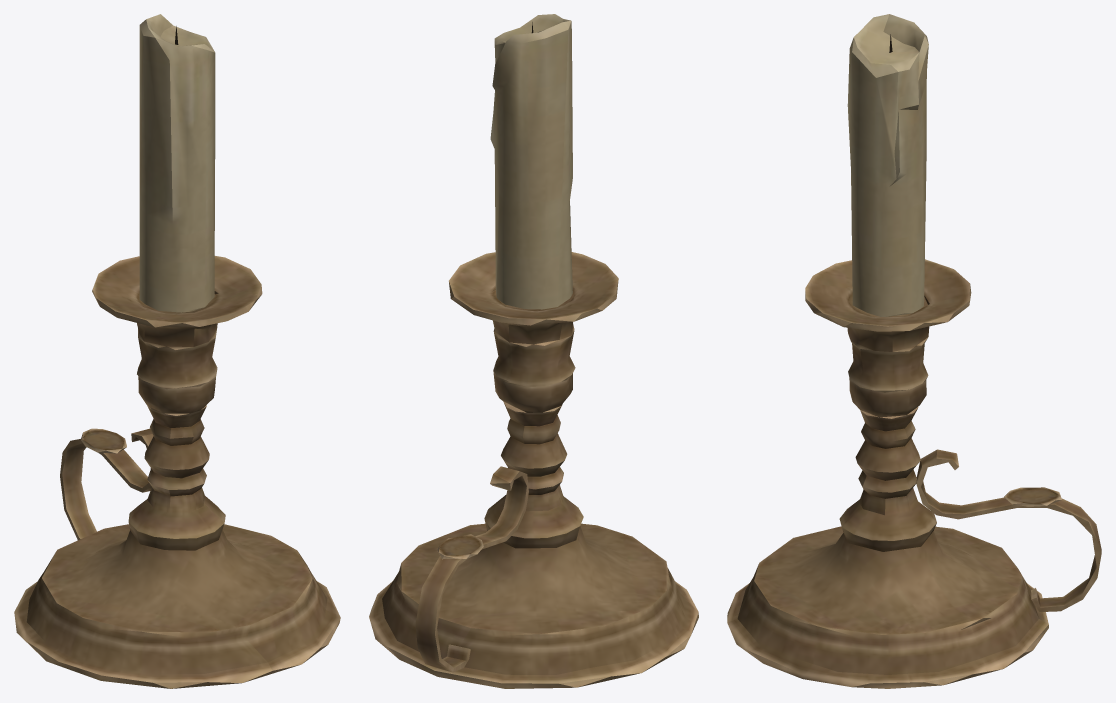
Rendered from candle-b.lod1.glb.
The picture shows the model from 3 angles, left to right: view 1: azimuth 30°, elevation 25°; view 2: azimuth 150°, elevation 25°; view 3: azimuth 270°, elevation 25°; orthographic projection. The views are drawn at different scales.
Parts seen in each view (by area): view 1: candle-b; view 2: candle-b; view 3: candle-b.
Part boxes in pixels (x1=…): candle-b: x1=14, y1=14, x2=340, y2=688; candle-b: x1=369, y1=14, x2=698, y2=688; candle-b: x1=727, y1=14, x2=1101, y2=688.
Bounding box in the file's own units: 0.1209 × 0.2467 × 0.141.
Materials: 2 (2 with a texture image).
